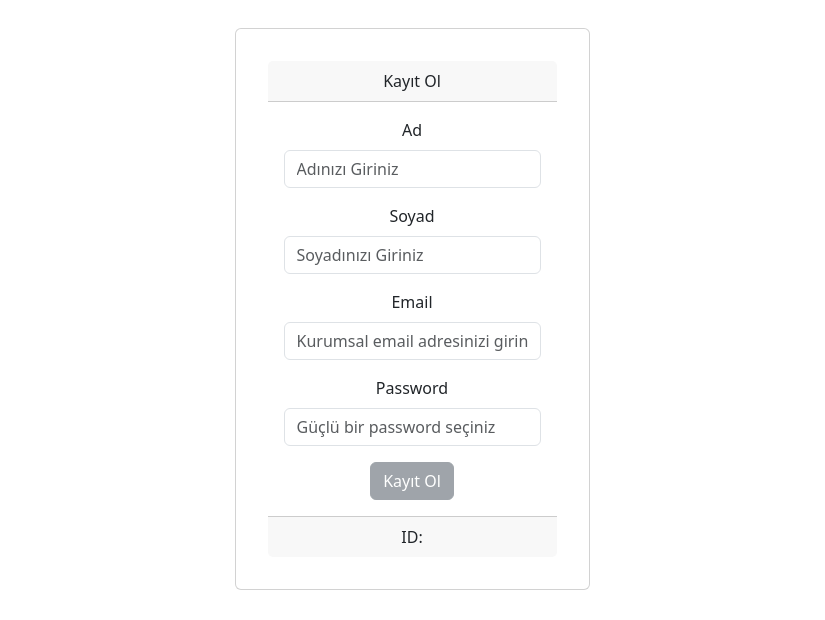
Scenario: Register Page › Error Messages › Password input throws error for 1234
This screenshot has width=825, height=620.
In the password field with test id "password-input": (413, 427) [284,408,541,446], type "1234"
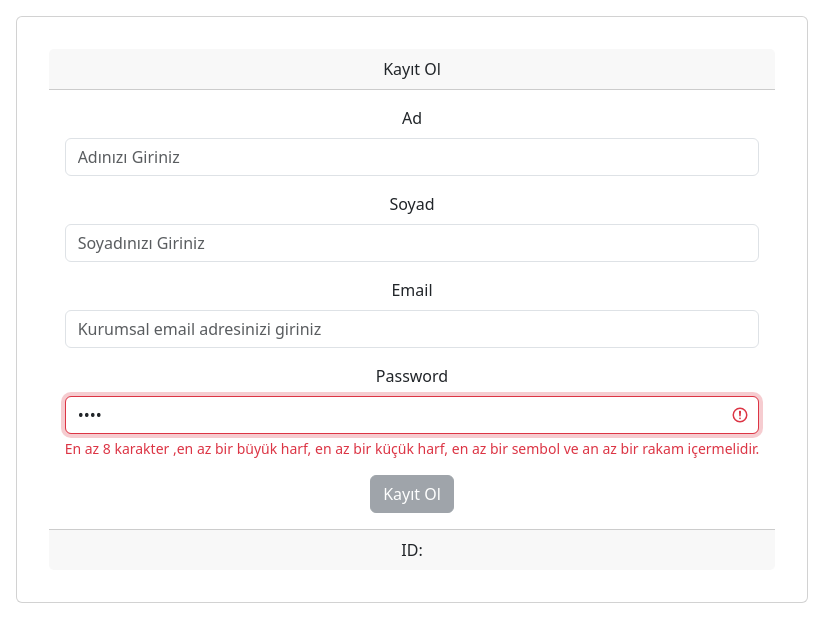
expect the text "En az 8 karakter ,en az bir büyük harf, en az bir küçük harf, en az bir sembol ve an az bir rakam içermelidir." is shown: met, box [65,439,760,458]
